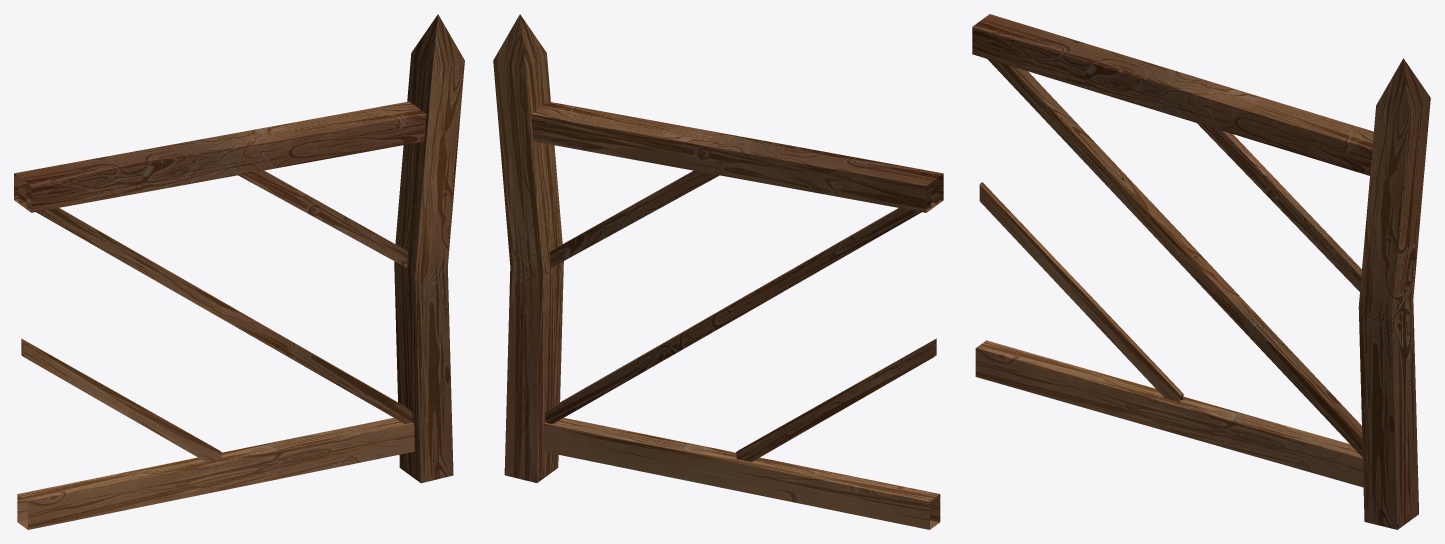
File: Fence_V3.fbx
3 renders of one model, left to right at view 1: azimuth 30°, elevation 25°; view 2: azimuth 150°, elevation 25°; view 3: azimuth 330°, elevation 25°, orthographic.
Parts seen in each view (by area): view 1: Fence_V3; view 2: Fence_V3; view 3: Fence_V3.
Part boxes in pixels (x1,y1,x2,y2): Fence_V3: (14, 14, 464, 529); Fence_V3: (493, 14, 943, 529); Fence_V3: (972, 14, 1430, 529).
Size of the model in its own units: 205 by 206 by 17.42.
